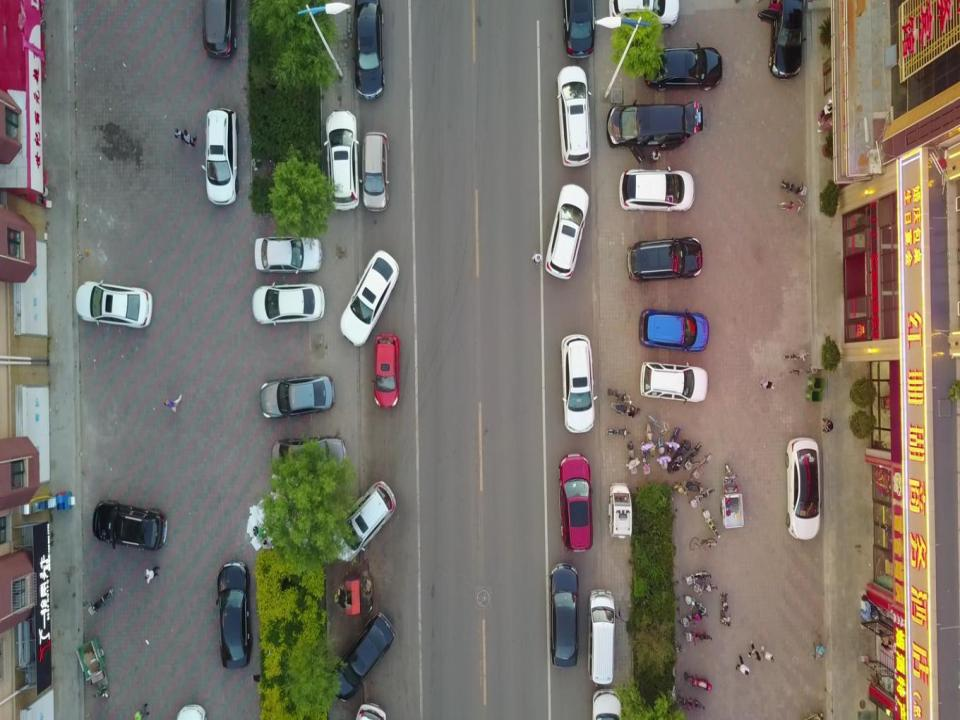car: (325, 609, 396, 702), (324, 479, 397, 561), (340, 248, 399, 346), (604, 99, 700, 152), (554, 326, 598, 439), (89, 494, 169, 554), (635, 301, 712, 363), (213, 558, 254, 673), (546, 182, 592, 284), (75, 277, 157, 334), (640, 39, 722, 93), (783, 431, 822, 540), (554, 63, 594, 169), (557, 451, 596, 558), (618, 161, 696, 213), (258, 370, 336, 420), (324, 108, 361, 211), (350, 0, 389, 97), (638, 354, 710, 406), (204, 104, 239, 210), (548, 561, 583, 667), (624, 236, 704, 282), (586, 587, 619, 692), (270, 432, 348, 475), (248, 285, 328, 326), (768, 0, 805, 81), (355, 128, 390, 213), (372, 329, 404, 414), (252, 237, 325, 274), (561, 0, 601, 60), (608, 0, 685, 30), (202, 5, 237, 61), (605, 479, 635, 543), (734, 652, 750, 676)
